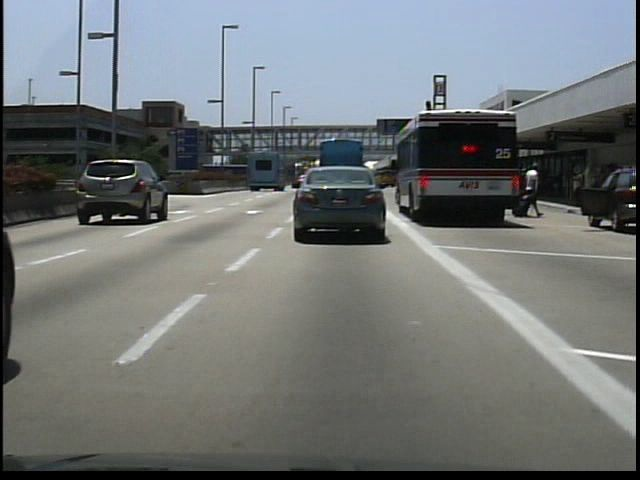person: (522, 159, 544, 221)
